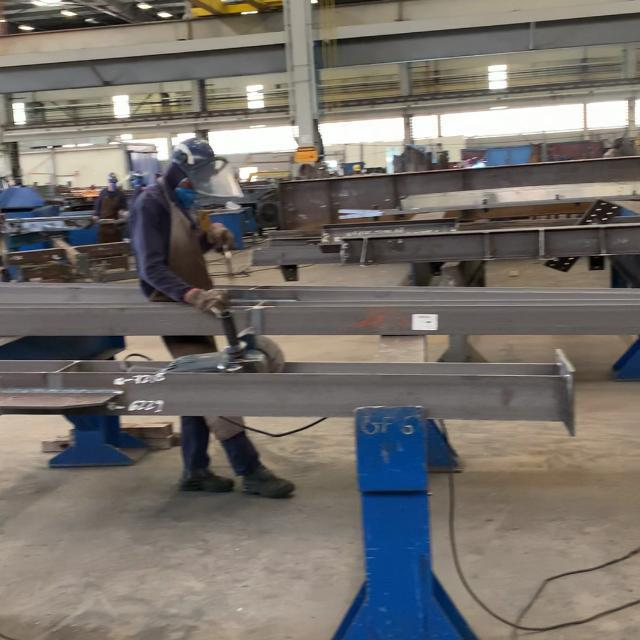eye-glass: (181, 160, 242, 199)
face-shield: (182, 286, 232, 321), (204, 220, 238, 253)
glove: (167, 140, 217, 168)
mask: (129, 139, 240, 315)
safety-shoe: (232, 461, 298, 501), (176, 469, 234, 493)
